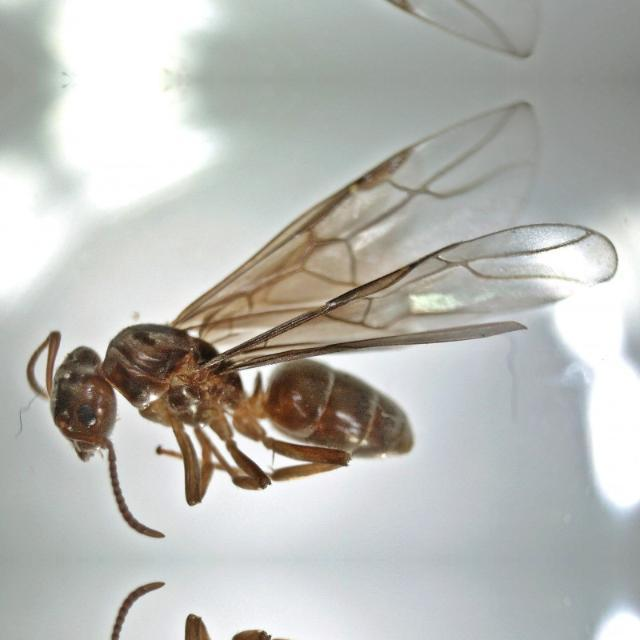Lasius: (38, 102, 626, 552)
